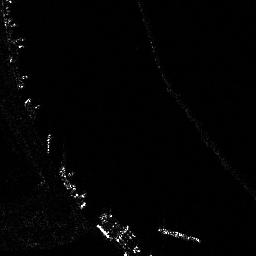ship: (155, 226, 202, 243)
